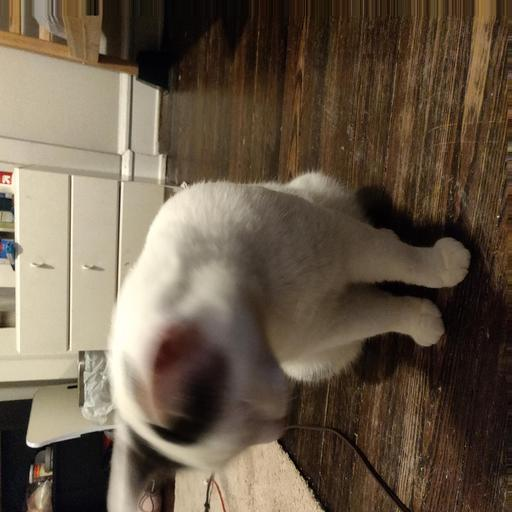cat: (93, 146, 418, 471)
